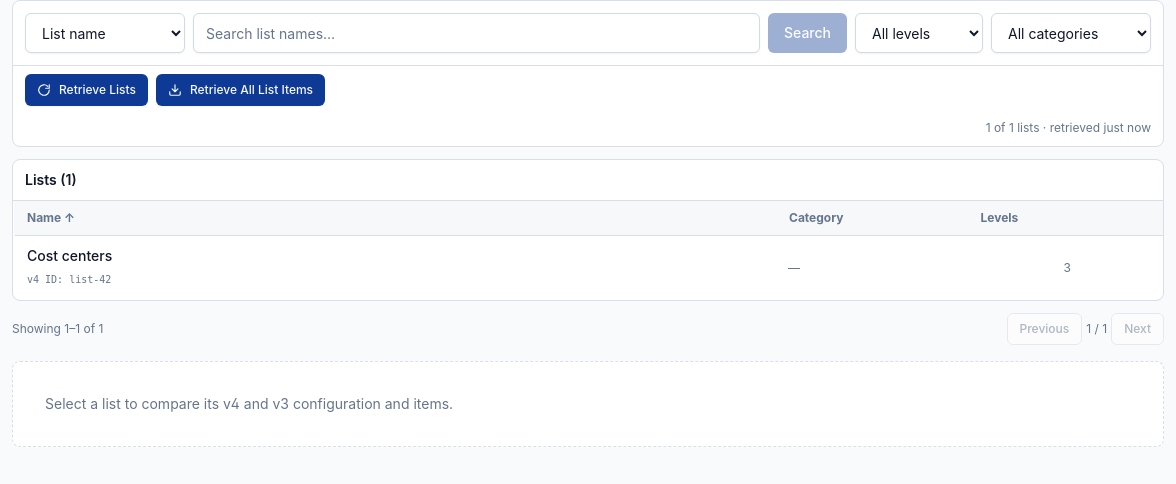
Test: ListsView table actions › searches saved item IDs across v3 and v4 while keeping the displayed source v4
Expected: the text "v4 ID: list-42" is shown, [27,274,111,285]
Select "Item ID (v3 / v4)" in the dropdown named "Search lists by" at (105, 33), box [25,13,185,53]
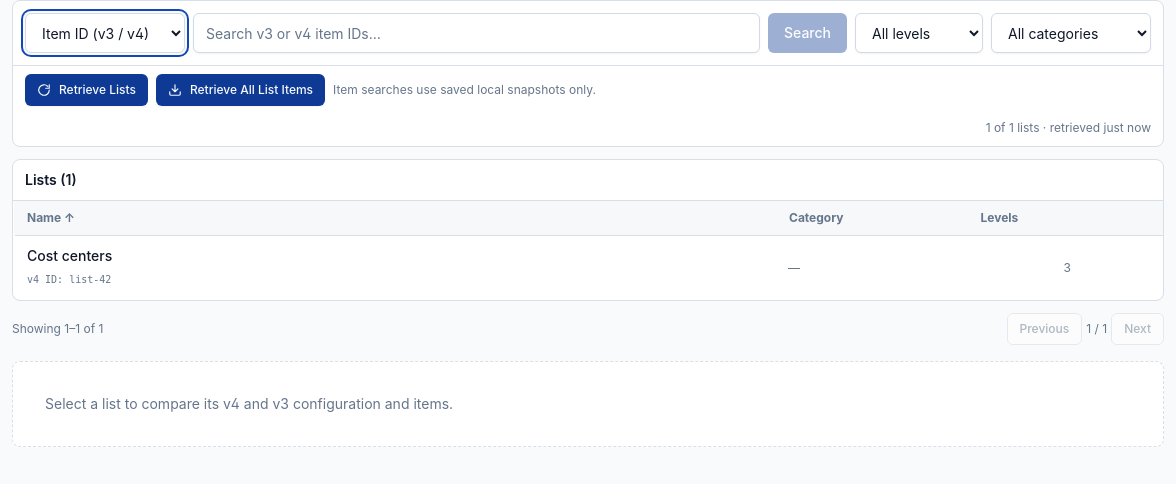
Type "legacy-item-99" into the field named "Search lists" at (476, 33), box [193,13,760,53]
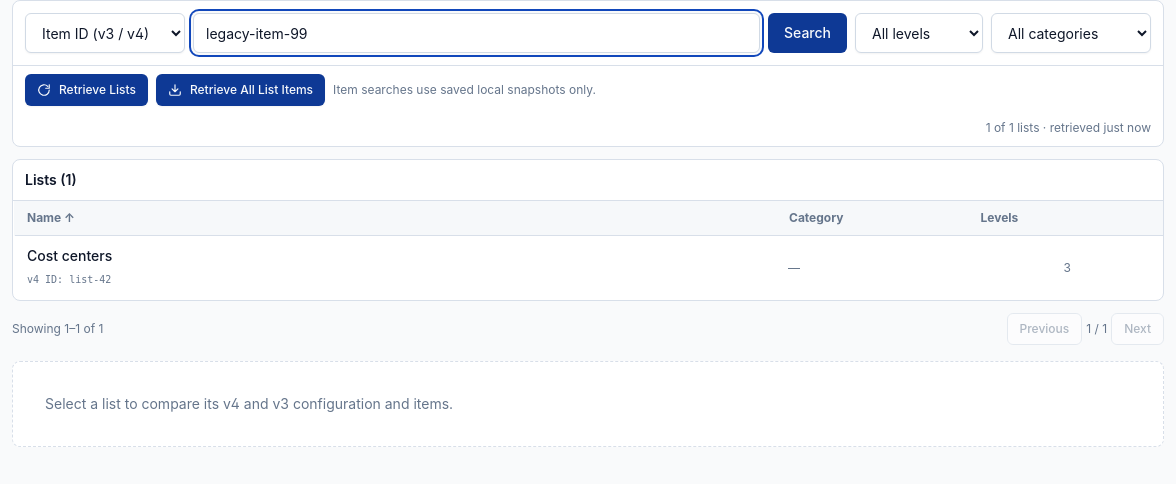
Click the button "Search" at (808, 33), box [768,13,847,53]
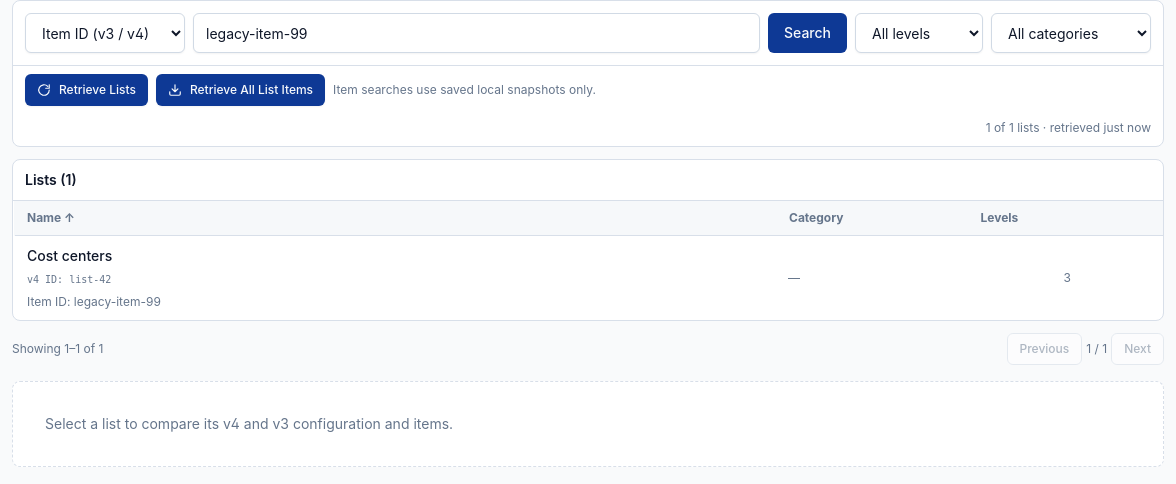
Expected: the text "v4 ID: list-42" is shown, [27,274,111,285]
Expected: the text "Item ID: legacy-item-99" is shown, [27,294,161,309]
